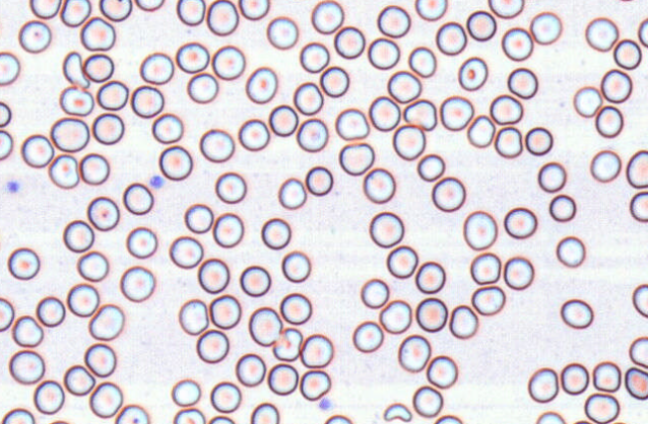PLT: (317, 397, 334, 412), (4, 179, 20, 194), (149, 175, 166, 189)
RBC: (462, 210, 497, 250), (50, 117, 89, 152), (248, 306, 282, 346), (88, 303, 124, 340), (119, 265, 155, 302), (368, 211, 404, 247), (8, 349, 44, 384), (79, 16, 115, 51), (89, 381, 123, 418), (397, 334, 430, 372), (431, 176, 465, 212), (211, 44, 245, 80), (299, 333, 333, 368), (439, 95, 473, 130), (158, 145, 192, 180), (199, 128, 234, 162), (362, 167, 395, 203), (392, 124, 425, 160), (338, 142, 374, 175), (245, 66, 277, 103), (20, 134, 54, 168), (195, 329, 229, 363), (130, 84, 164, 118), (376, 4, 410, 38), (585, 16, 618, 51), (334, 107, 369, 140), (368, 95, 400, 131), (212, 212, 244, 248), (197, 257, 229, 293), (503, 206, 537, 239), (66, 283, 99, 317), (169, 235, 203, 268), (379, 299, 412, 333), (7, 246, 40, 280), (387, 70, 421, 103), (311, 0, 344, 34), (18, 19, 51, 53), (296, 117, 328, 152), (415, 297, 447, 332), (209, 294, 241, 329), (84, 342, 116, 377), (139, 52, 174, 84), (501, 26, 533, 61), (206, 0, 238, 35), (600, 68, 632, 103), (87, 196, 119, 231), (527, 367, 558, 403), (178, 298, 208, 335), (91, 112, 124, 145), (529, 11, 562, 44), (175, 41, 209, 73), (403, 98, 437, 130), (435, 21, 467, 55), (333, 25, 365, 59), (33, 379, 64, 414), (59, 85, 94, 116), (584, 392, 619, 423), (48, 153, 79, 188), (235, 352, 266, 387), (503, 255, 534, 290), (457, 56, 488, 91), (386, 245, 418, 278), (62, 219, 94, 252), (11, 314, 43, 347), (266, 16, 298, 49), (63, 364, 95, 396), (279, 292, 311, 324), (214, 171, 246, 203), (469, 252, 501, 284), (367, 37, 399, 69), (238, 118, 269, 151), (426, 355, 457, 388), (590, 149, 621, 182), (122, 182, 153, 215), (560, 298, 593, 329), (471, 285, 505, 315), (293, 81, 323, 115), (489, 94, 523, 124), (267, 363, 298, 395), (186, 72, 218, 103), (412, 385, 443, 417), (210, 381, 241, 413), (76, 250, 108, 281), (352, 320, 383, 352), (260, 217, 291, 249), (151, 112, 183, 143), (96, 79, 128, 110), (126, 226, 157, 258), (79, 152, 109, 185), (449, 304, 478, 338), (466, 114, 495, 148), (299, 369, 330, 400), (239, 265, 270, 296), (268, 104, 298, 136), (35, 295, 65, 327), (319, 65, 349, 97), (415, 261, 445, 293), (299, 41, 329, 73), (281, 250, 311, 282), (555, 235, 585, 267), (507, 67, 537, 99), (560, 362, 589, 395), (466, 10, 496, 41), (82, 53, 114, 82), (277, 177, 306, 209), (573, 85, 602, 117), (592, 360, 621, 392), (494, 125, 522, 158), (595, 105, 623, 138), (183, 203, 213, 233), (537, 161, 566, 192), (360, 278, 389, 308), (305, 165, 333, 196), (408, 46, 436, 77), (613, 38, 641, 69), (524, 126, 553, 155), (60, 0, 91, 27), (626, 149, 647, 188), (416, 153, 445, 181), (171, 378, 200, 406), (548, 193, 576, 222), (624, 366, 648, 399), (176, 0, 205, 25), (414, 0, 447, 21), (99, 0, 132, 21), (0, 51, 20, 85), (114, 404, 149, 423), (488, 0, 524, 18), (238, 0, 269, 20), (250, 402, 279, 423), (29, 0, 61, 19), (629, 336, 648, 368), (629, 191, 647, 222), (632, 283, 648, 317), (1, 407, 35, 423), (173, 407, 205, 423), (0, 297, 14, 331), (0, 129, 13, 160), (535, 411, 565, 423), (135, 0, 164, 11), (0, 101, 11, 127), (638, 17, 647, 47), (433, 414, 462, 423), (324, 414, 353, 423), (207, 415, 235, 423), (48, 419, 70, 424), (571, 419, 593, 424), (608, 421, 632, 424), (614, 0, 639, 2)
Schistocyte: (61, 51, 91, 92), (272, 329, 303, 362), (382, 400, 415, 424)
